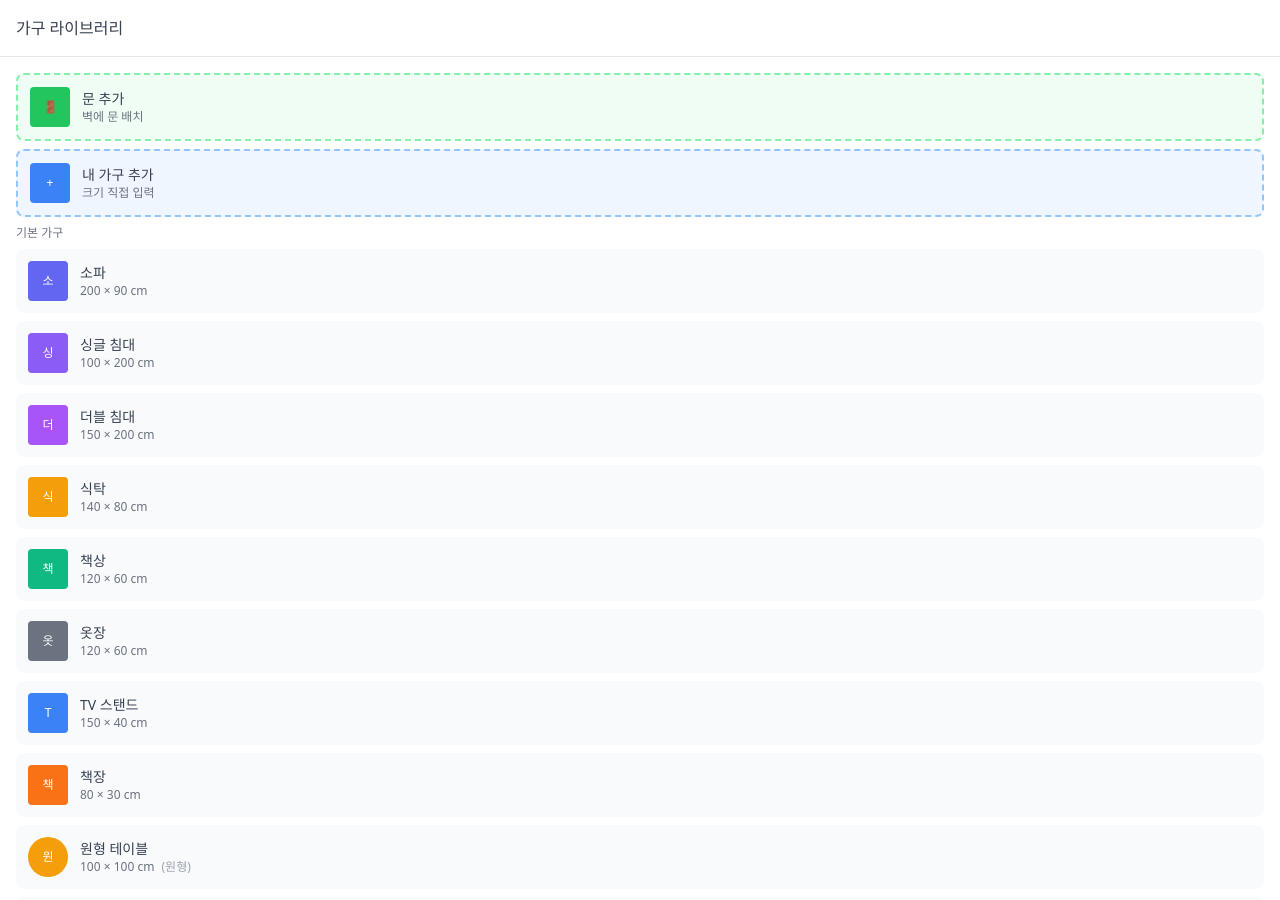
Scenario: FurnitureLibrary 컴포넌트 › 크기가 범위를 벗어나면 에러 메시지가 표시된다
The image size is (1280, 900).
Click the element showing "+ 내 가구 추가 크기 직접 입력" at [640, 183], box x1=16 y1=149 x2=1264 y2=217
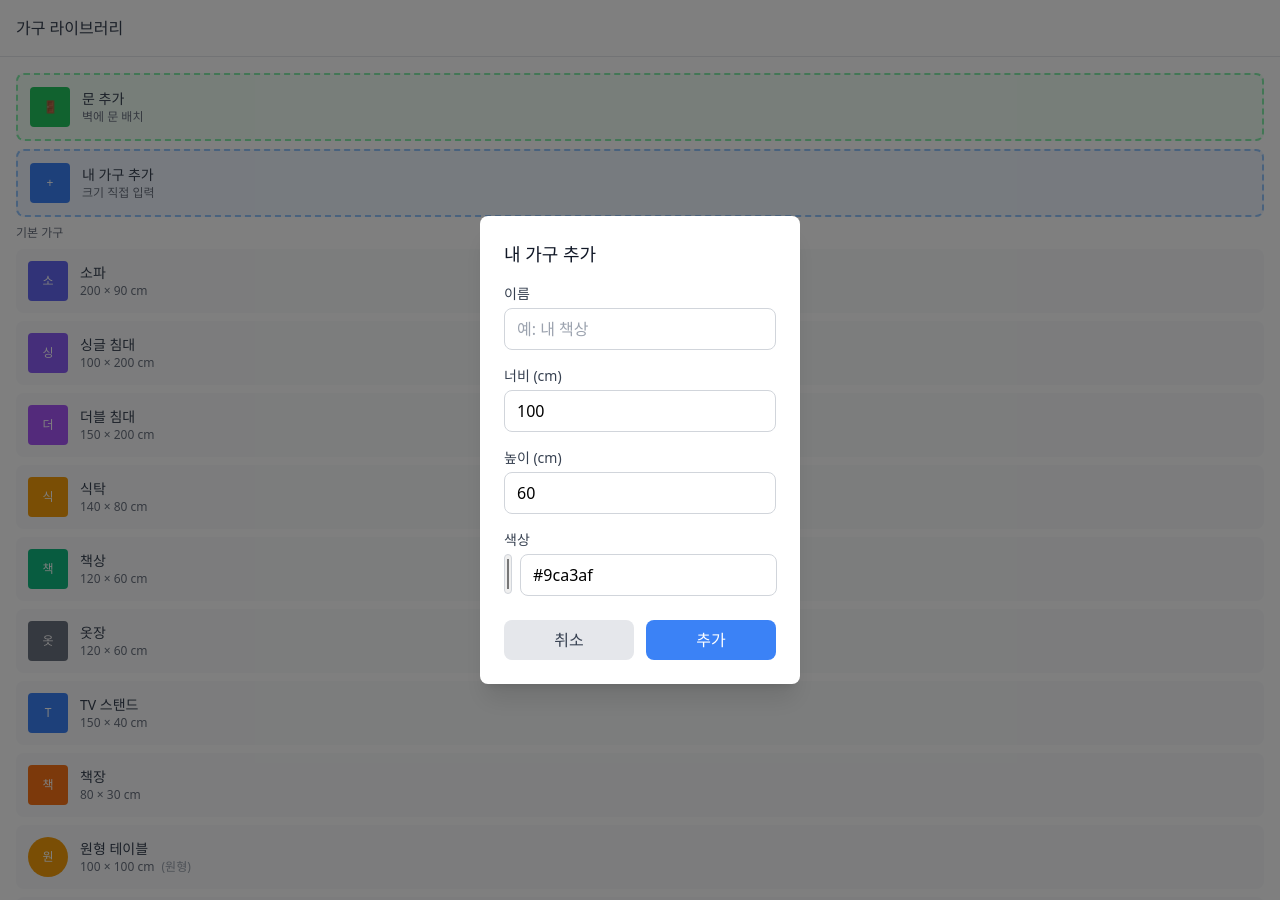
Type "테스트" into the field with placeholder "예: 내 책상" at [640, 329], box x1=504 y1=308 x2=776 y2=350
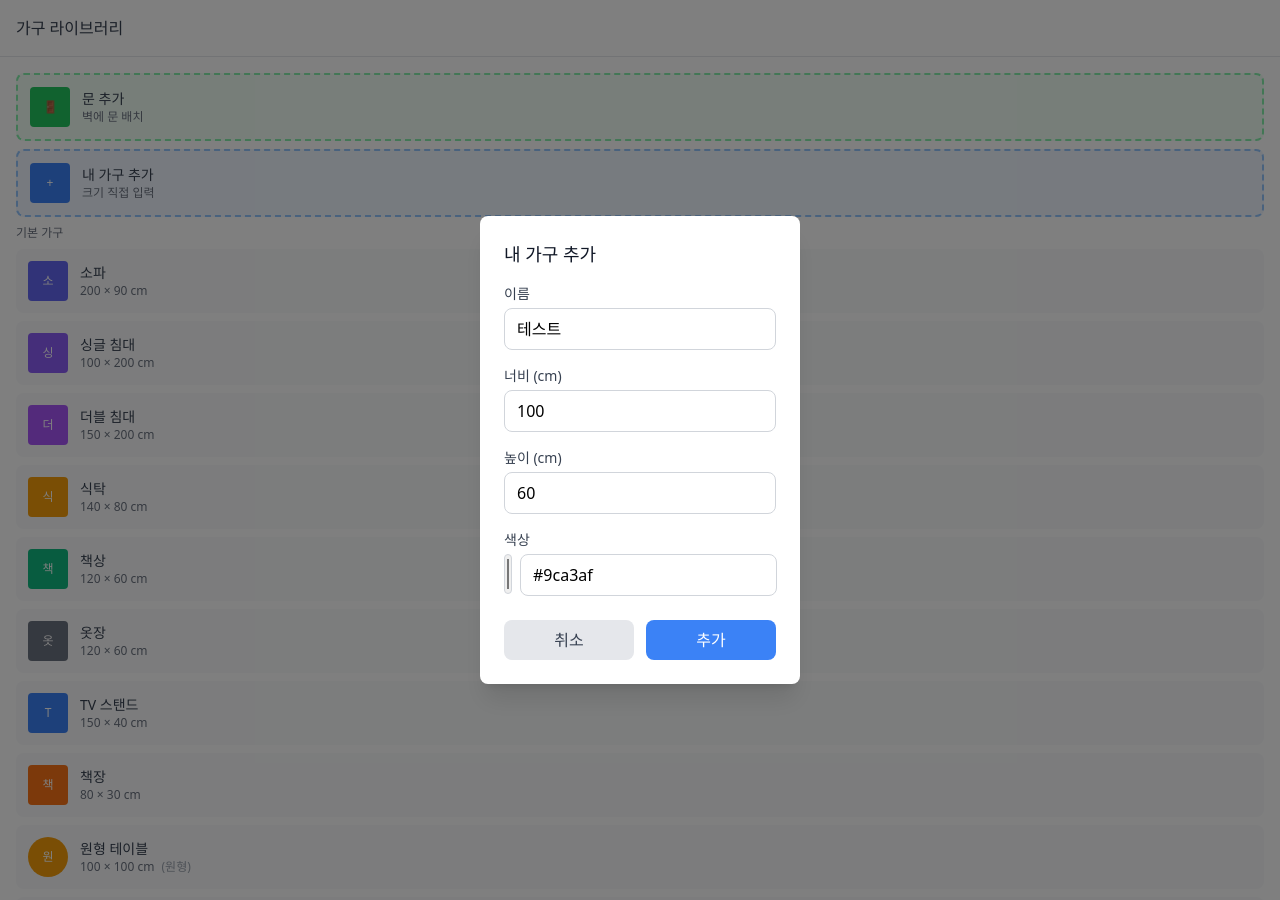
Type "5" into the number field below "너비 (cm)" at [640, 411], box x1=504 y1=390 x2=776 y2=432
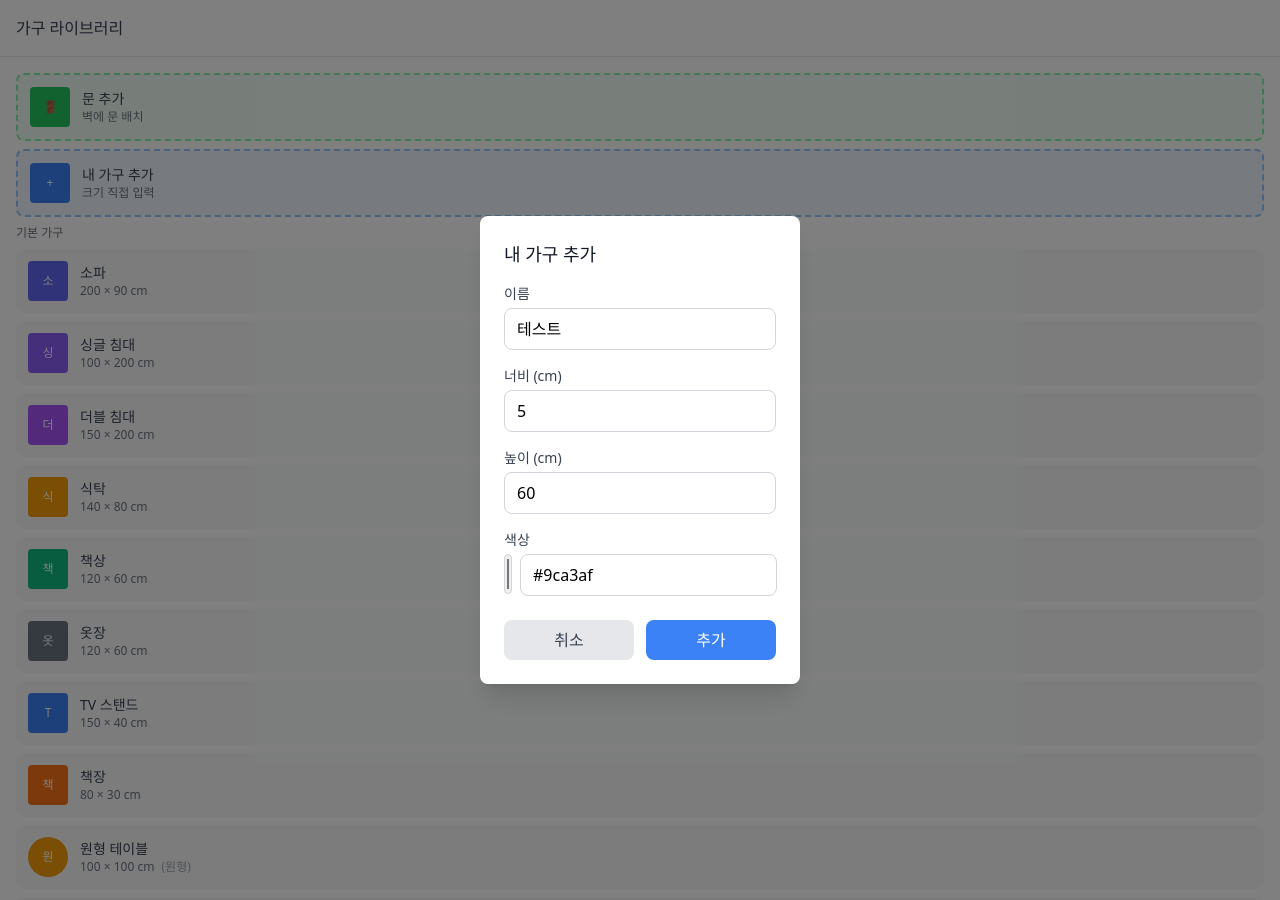
Type "600" into the number field below "높이 (cm)" at [640, 493], box x1=504 y1=472 x2=776 y2=514
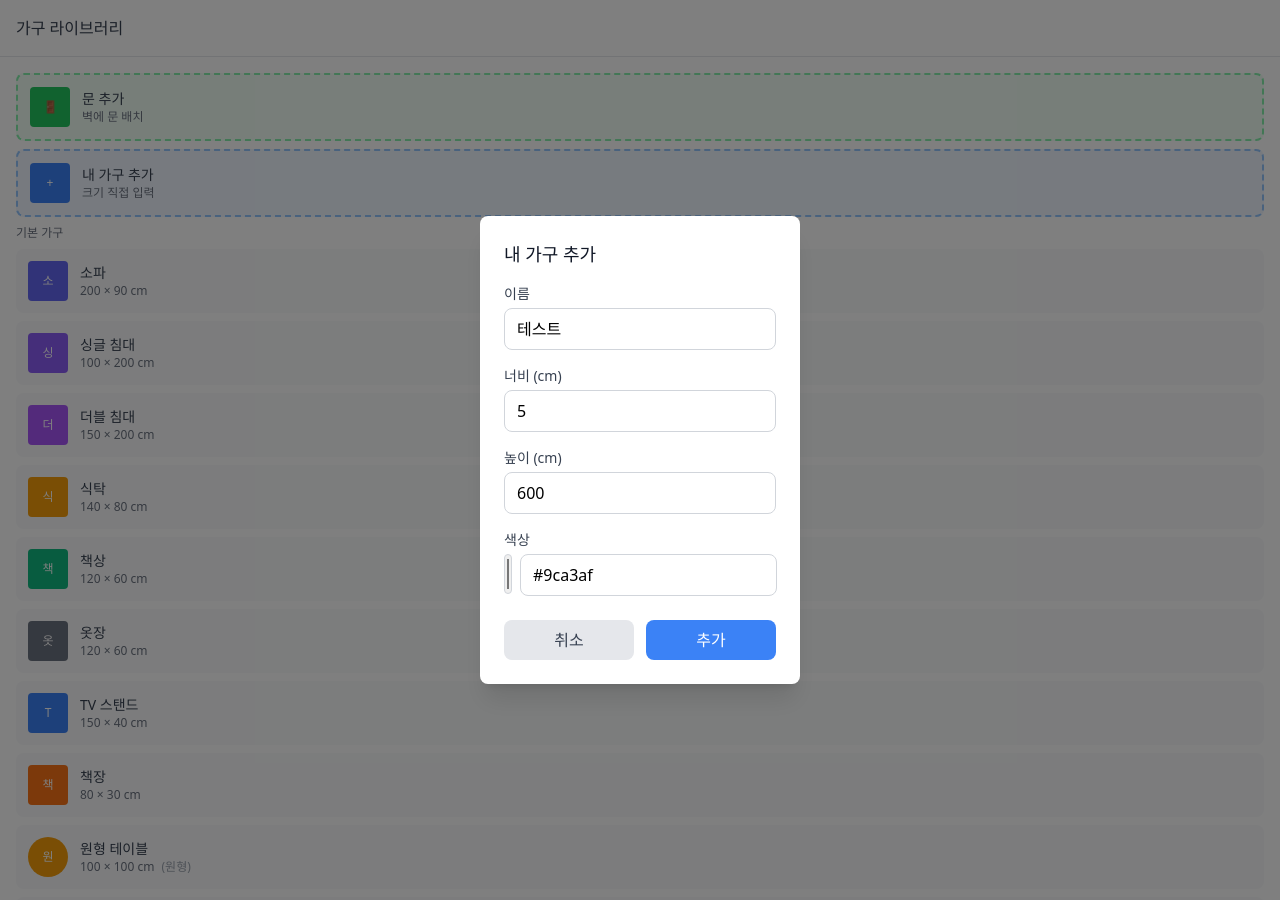
Click the button "추가" at [711, 640], box x1=646 y1=620 x2=776 y2=660
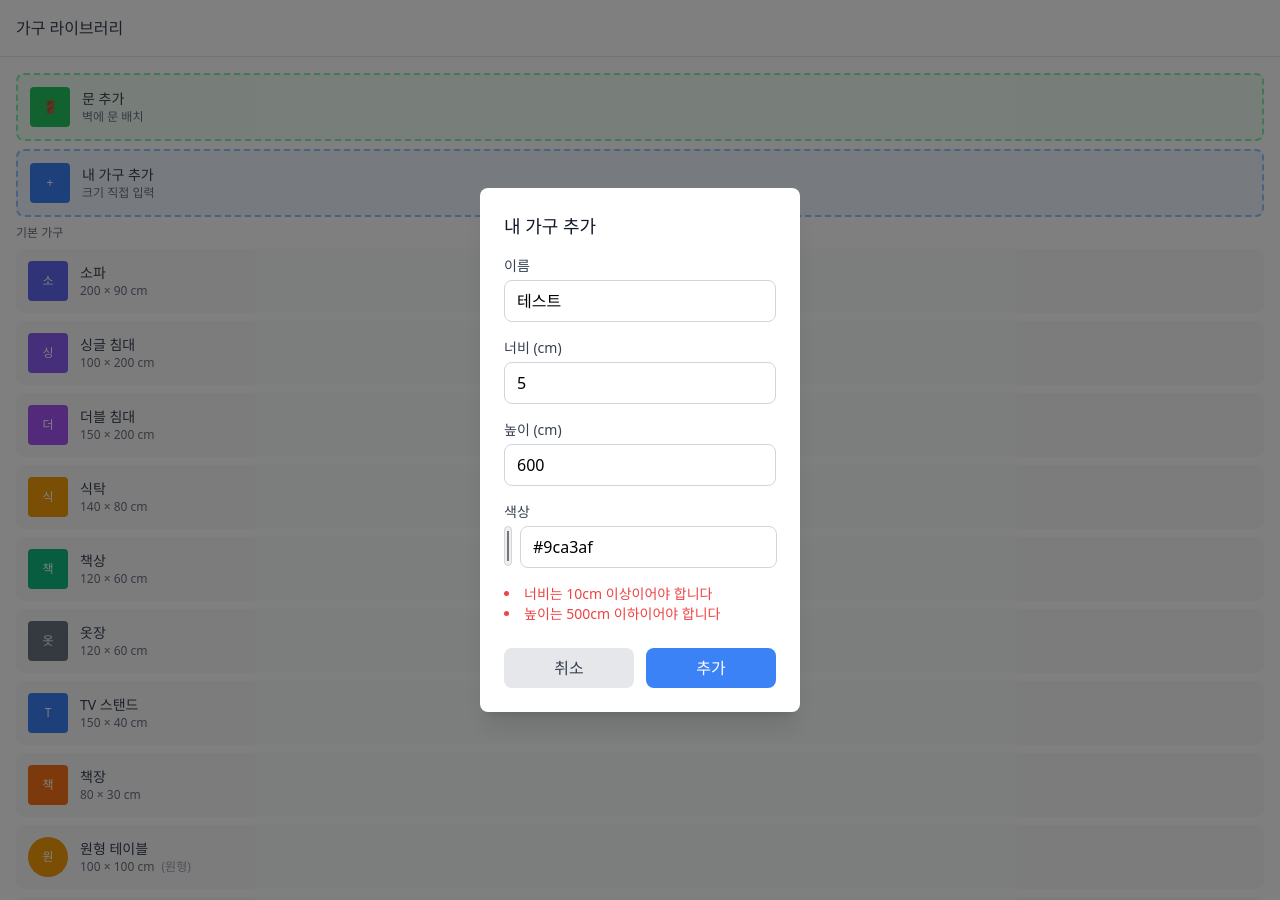
Expected: the text "너비는 10cm 이상이어야 합니다" is shown, x1=524 y1=584 x2=712 y2=603
Expected: the text "높이는 500cm 이하이어야 합니다" is shown, x1=524 y1=604 x2=720 y2=623
